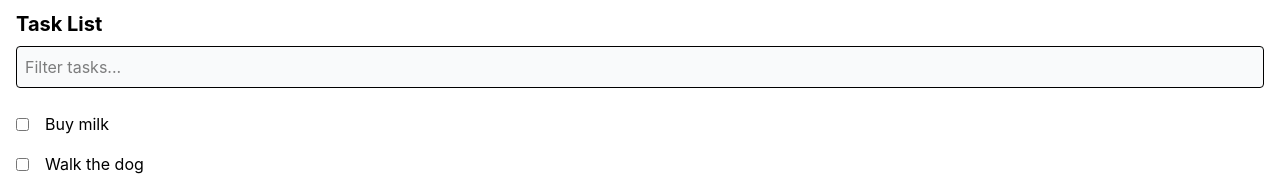
Test: <TaskListPane /> › renders tasks from the store and filters them as the user types
The width and height of the screenshot is (1280, 191).
Expected: the text "Buy milk" is shown, left=45, top=114, right=109, bottom=134
Expected: the text "Walk the dog" is shown, left=45, top=154, right=144, bottom=174
Step 1. Type "milk" into the field with placeholder "Filter tasks..." → (640, 67), box left=16, top=46, right=1264, bottom=88
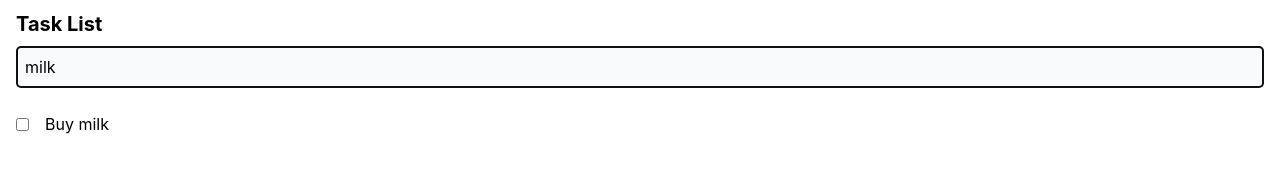
Expected: the text "Buy milk" is shown, left=45, top=114, right=109, bottom=134
Expected: the text "Walk the dog" is gone
